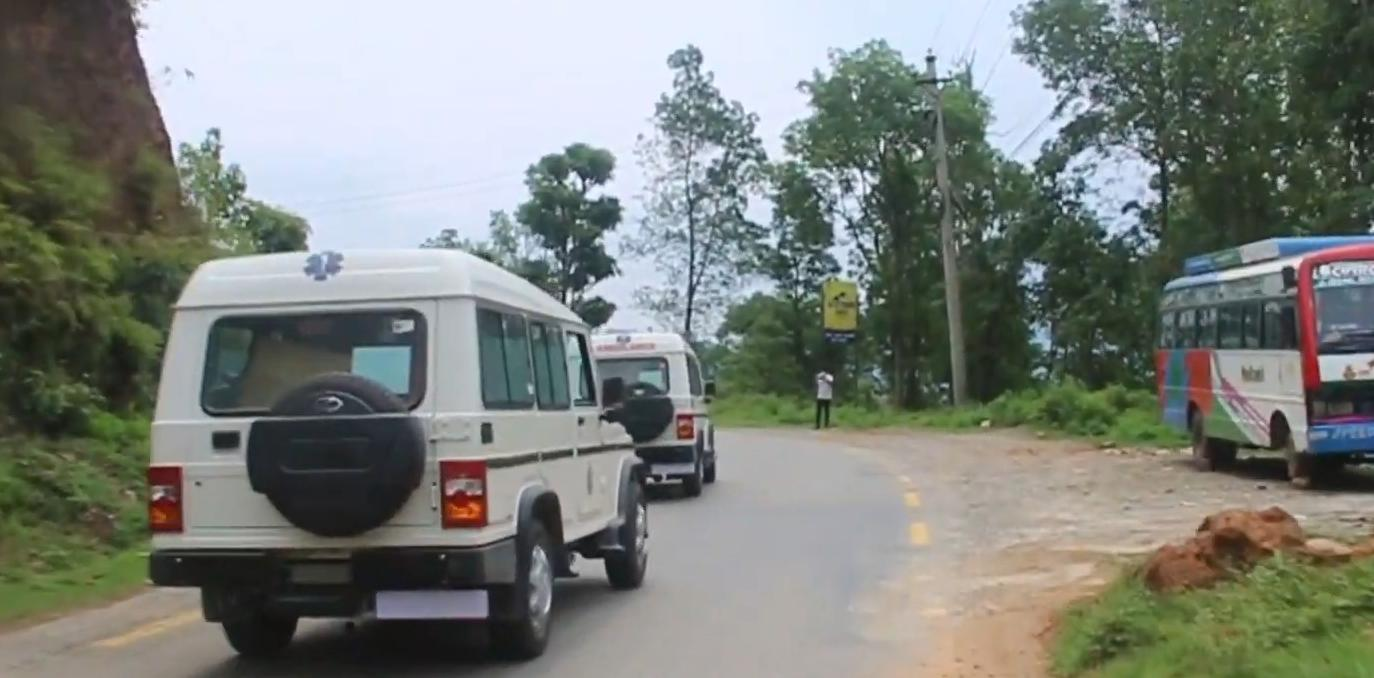ambulance: (130, 243, 662, 665), (582, 325, 733, 500)
bus: (1152, 231, 1374, 481)
